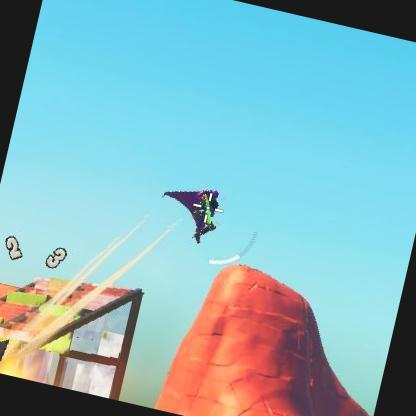Person: (184, 185, 222, 248)
